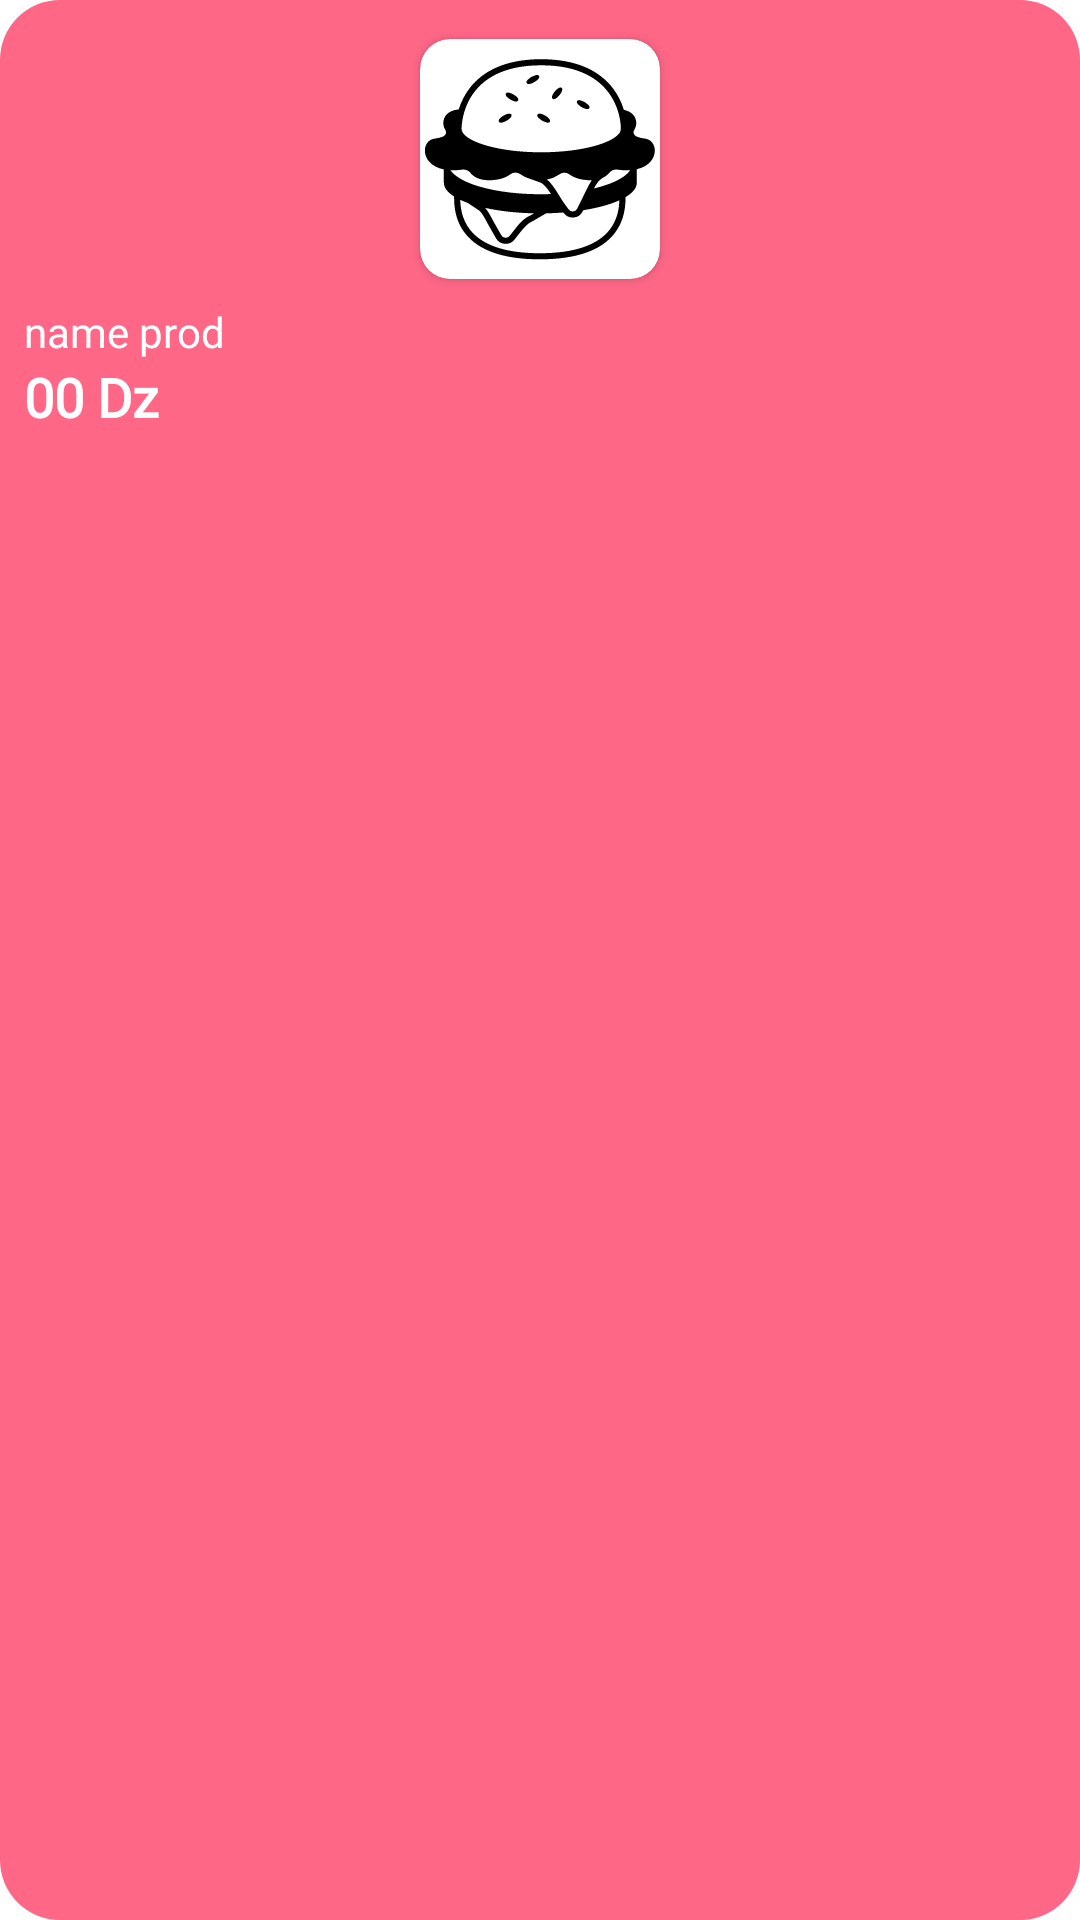

Point at icon controls on the screen. Image size 1080px x 1920px, points as (x=x, y=y).
hamburger: (x=540, y=159)
